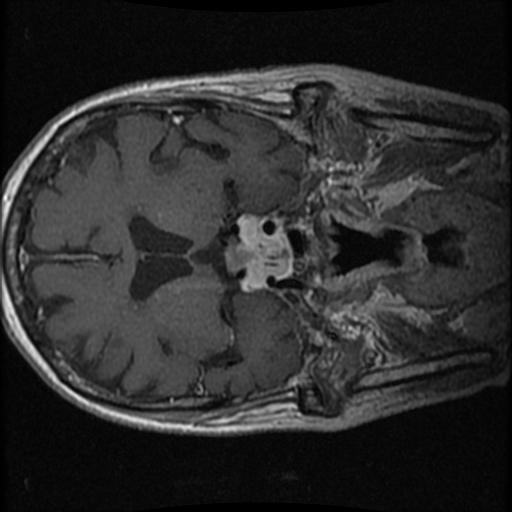pituitary tumour: (225, 211, 291, 292)
